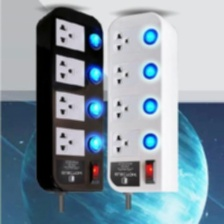three_eye_plug: (104, 7, 181, 196), (33, 5, 106, 194)
